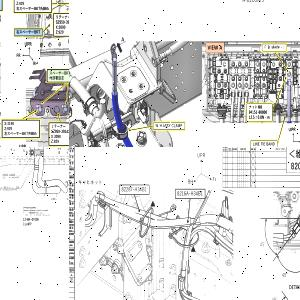PartNumber: (121, 186, 147, 192), (177, 190, 203, 196), (50, 129, 69, 134), (248, 110, 267, 115), (54, 19, 69, 24), (23, 218, 39, 222), (2, 173, 15, 176)
